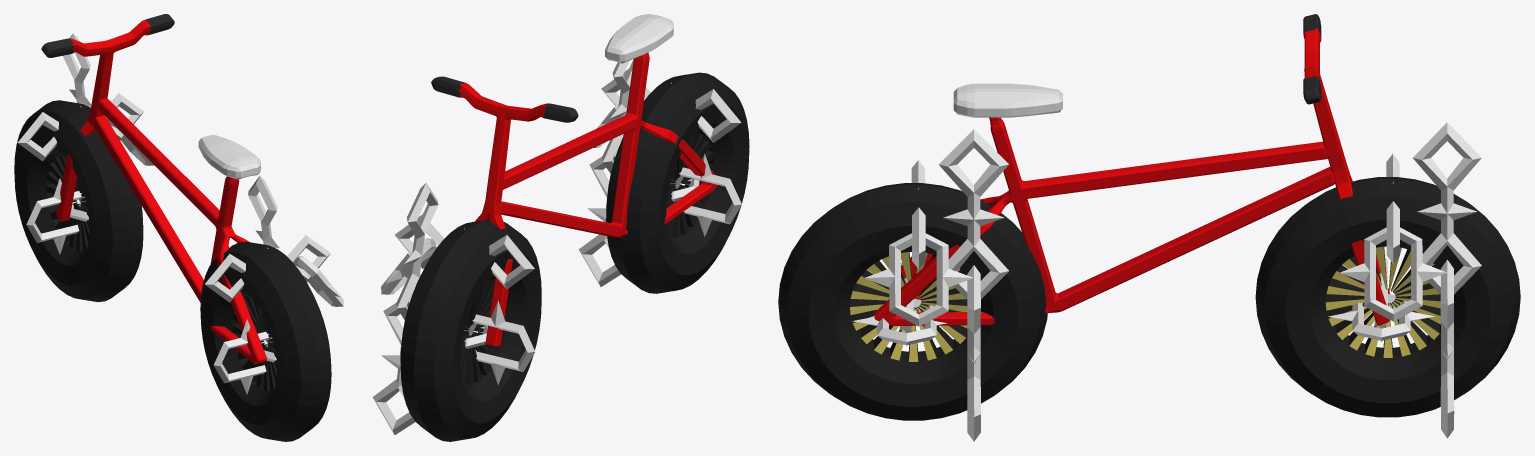
3 views of the same model, side by side, from view 1: azimuth 30°, elevation 25°; view 2: azimuth 150°, elevation 25°; view 3: azimuth 270°, elevation 25° (orthographic). The views are drawn at different scales.
Parts seen in each view (by area): view 1: Circle.001_Circle.003, Circle.001_Circle.001, Frame, Handle, Saddle; view 2: Circle.001_Circle.001, Circle.001_Circle.003, Frame, Handle, Saddle; view 3: Circle.001_Circle.001, Circle.001_Circle.003, Frame, Handle, Saddle.
Part boxes in pixels (x1=…): Circle.001_Circle.003: x1=200, y1=175, x2=343, y2=441; Circle.001_Circle.001: x1=14, y1=33, x2=154, y2=302; Frame: x1=93, y1=98, x2=266, y2=363; Handle: x1=41, y1=14, x2=174, y2=221; Saddle: x1=198, y1=134, x2=260, y2=179; Circle.001_Circle.001: x1=372, y1=183, x2=541, y2=441; Circle.001_Circle.003: x1=578, y1=59, x2=749, y2=293; Frame: x1=501, y1=52, x2=717, y2=238; Handle: x1=431, y1=76, x2=578, y2=346; Saddle: x1=605, y1=14, x2=673, y2=63; Circle.001_Circle.001: x1=1255, y1=122, x2=1520, y2=438; Circle.001_Circle.003: x1=778, y1=129, x2=1047, y2=441; Frame: x1=874, y1=117, x2=1335, y2=325; Handle: x1=1303, y1=14, x2=1389, y2=325; Saddle: x1=953, y1=83, x2=1062, y2=117.
Bounding box in the file's own units: 163 × 320 × 587.
